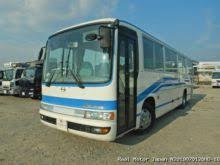bus: (37, 16, 202, 143)
